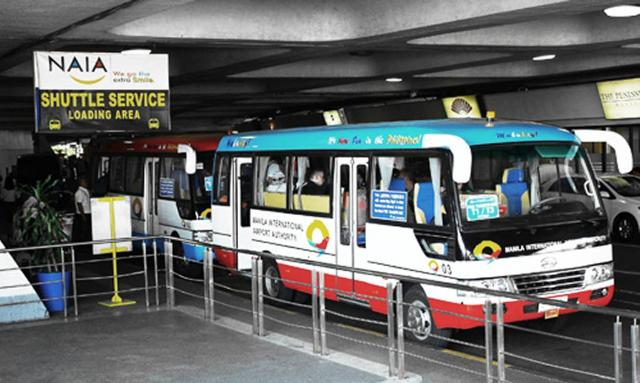bus: (210, 123, 617, 338), (109, 136, 215, 271)
